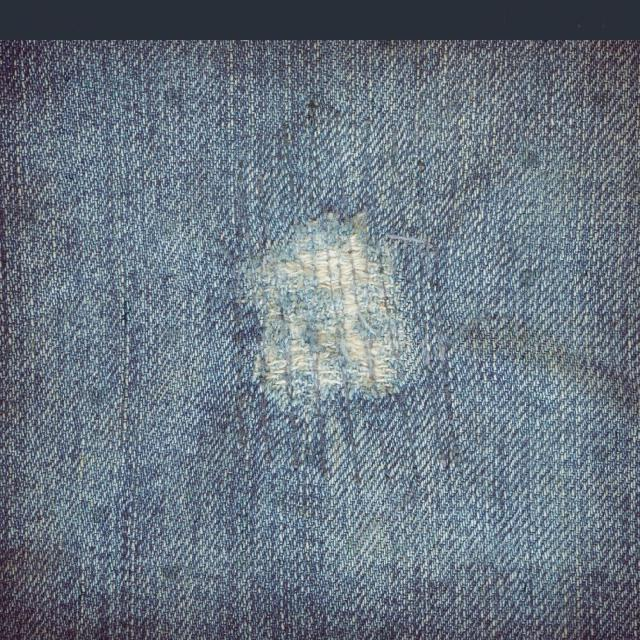Hole: (247, 212, 411, 406)
